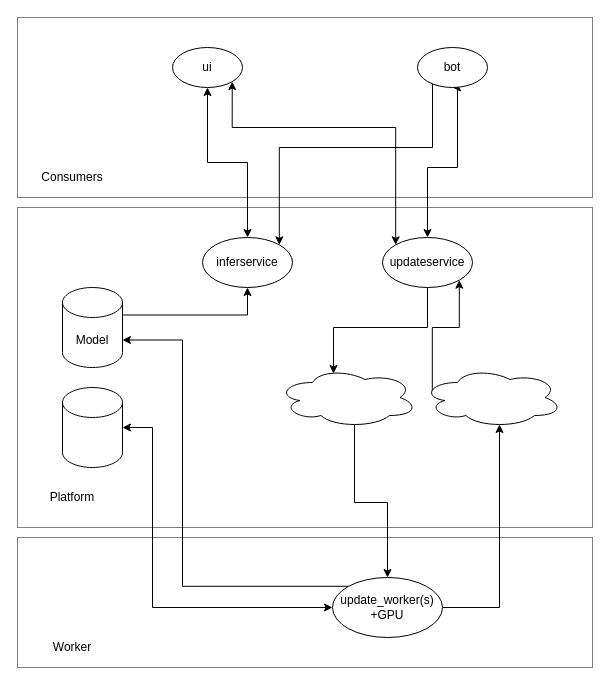
Image size: 610x685. Some labels were removed from this diagram. The centre of each missing label's shape, as x and y in pixels:
"[pub/sub]: update_request" belongs at pixel 347 397.
"[pub/sub]: update_status" belongs at pixel 492 397.
"Data" belongs at pixel 92 427.
